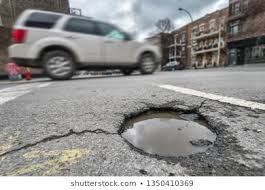pothole: (117, 102, 218, 161)
